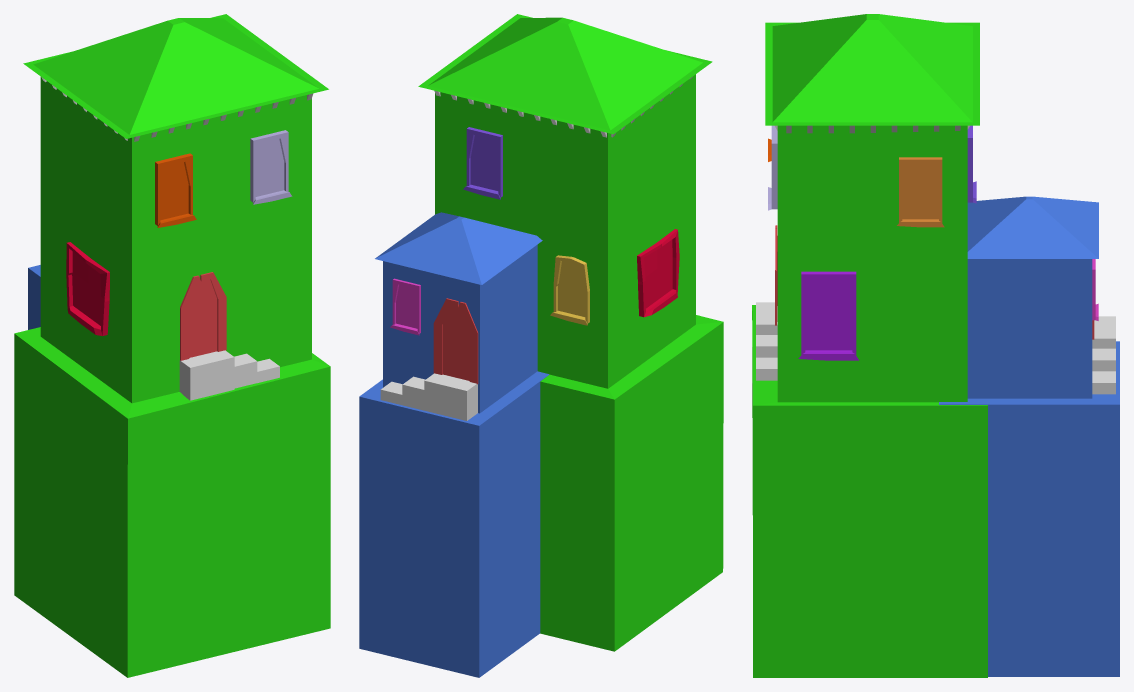
File: house2test.fbx
The picture shows the model from 3 angles, left to right: view 1: azimuth 30°, elevation 25°; view 2: azimuth 150°, elevation 25°; view 3: azimuth 270°, elevation 25°; orthographic projection. The views are drawn at different scales.
Visible parts, largest first — view 1: Cube.low2, Cube.016, raam.012, raam.013, raam.014, Cube.015, Cube.low.1, Cube.006; view 2: Cube.low2, Cube.low.1, Cube, raam.012, raam.001, raam.002, Cube.009, raam, Cube.010; view 3: Cube.low2, Cube.low.1, raam.004, raam.003, Cube.009, Cube.015, raam.013, Cube.010, Cube.011.
Part boxes in pixels (x1=…): Cube.low2: x1=14, y1=14, x2=330, y2=677; Cube.016: x1=180, y1=272, x2=226, y2=360; raam.012: x1=66, y1=242, x2=109, y2=335; raam.013: x1=250, y1=130, x2=292, y2=204; raam.014: x1=155, y1=153, x2=196, y2=227; Cube.015: x1=179, y1=350, x2=234, y2=400; Cube.low.1: x1=28, y1=265, x2=40, y2=329; Cube.006: x1=234, y1=353, x2=257, y2=388; Cube.low2: x1=418, y1=14, x2=723, y2=651; Cube.low.1: x1=359, y1=212, x2=549, y2=677; Cube: x1=433, y1=298, x2=478, y2=384; raam.012: x1=637, y1=229, x2=679, y2=317; raam.001: x1=463, y1=127, x2=502, y2=199; raam.002: x1=550, y1=255, x2=589, y2=325; Cube.009: x1=424, y1=373, x2=477, y2=420; raam: x1=390, y1=278, x2=420, y2=335; Cube.010: x1=402, y1=376, x2=425, y2=410; Cube.low2: x1=752, y1=14, x2=987, y2=677; Cube.low.1: x1=939, y1=196, x2=1119, y2=676; raam.004: x1=798, y1=271, x2=858, y2=360; raam.003: x1=897, y1=157, x2=944, y2=227; Cube.009: x1=1092, y1=316, x2=1115, y2=348; Cube.015: x1=756, y1=302, x2=777, y2=334; raam.013: x1=768, y1=125, x2=777, y2=210; Cube.010: x1=1092, y1=348, x2=1115, y2=371; Cube.011: x1=1092, y1=371, x2=1115, y2=394.
Size of the model in its own units: 892 by 2409 by 1312.
